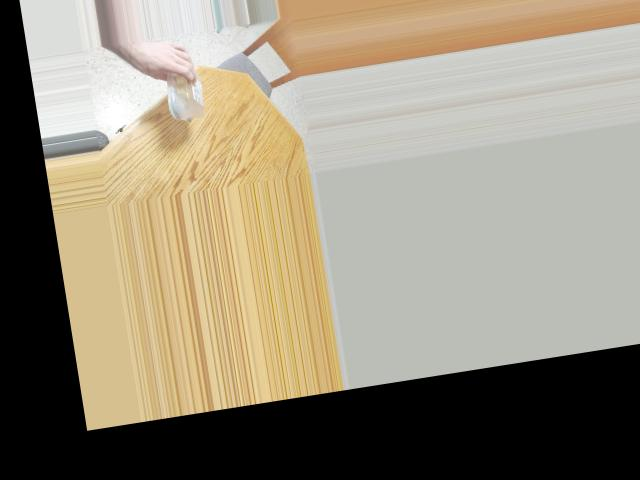cheese: (148, 56, 216, 130)
